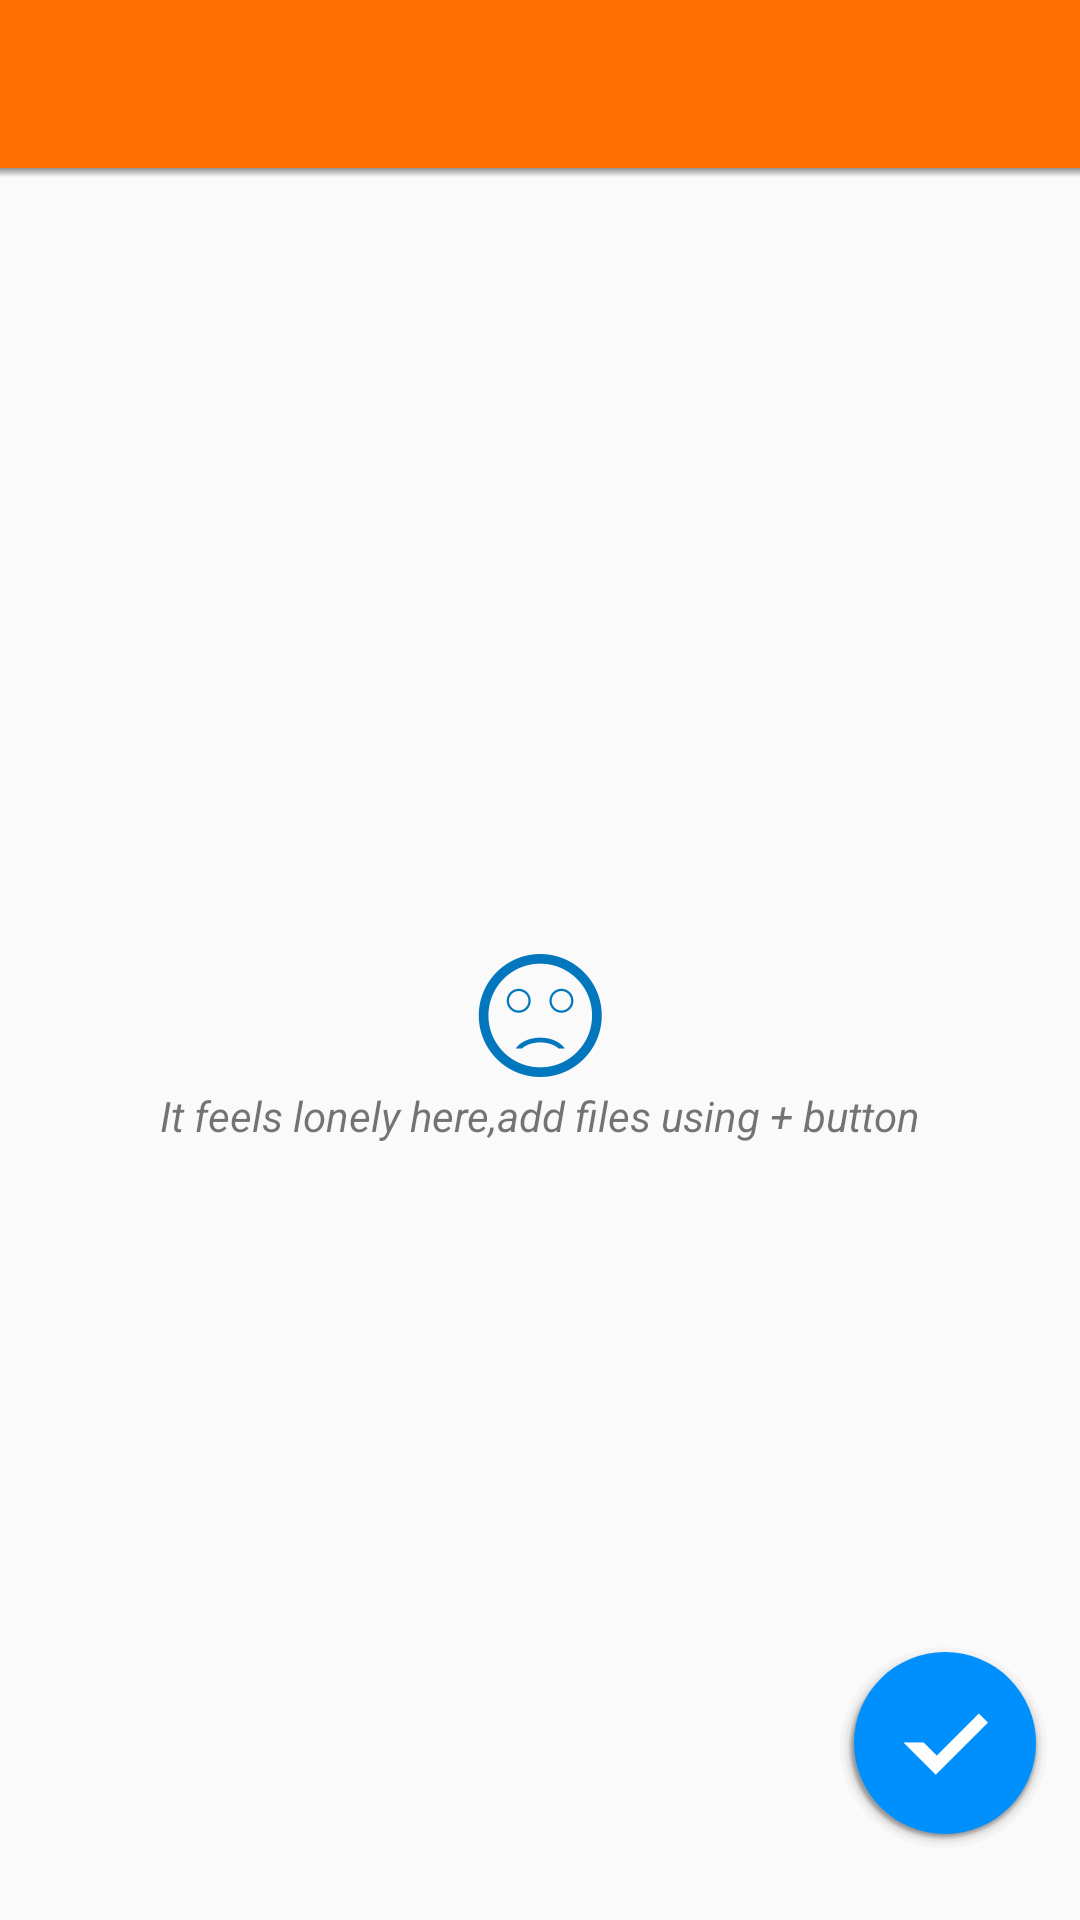

Point at icon controls on the screen. Image size 1080px x 1920px, points as (x,y).
Done button: (943,1746)
Sad Smiley: (540,1015)
